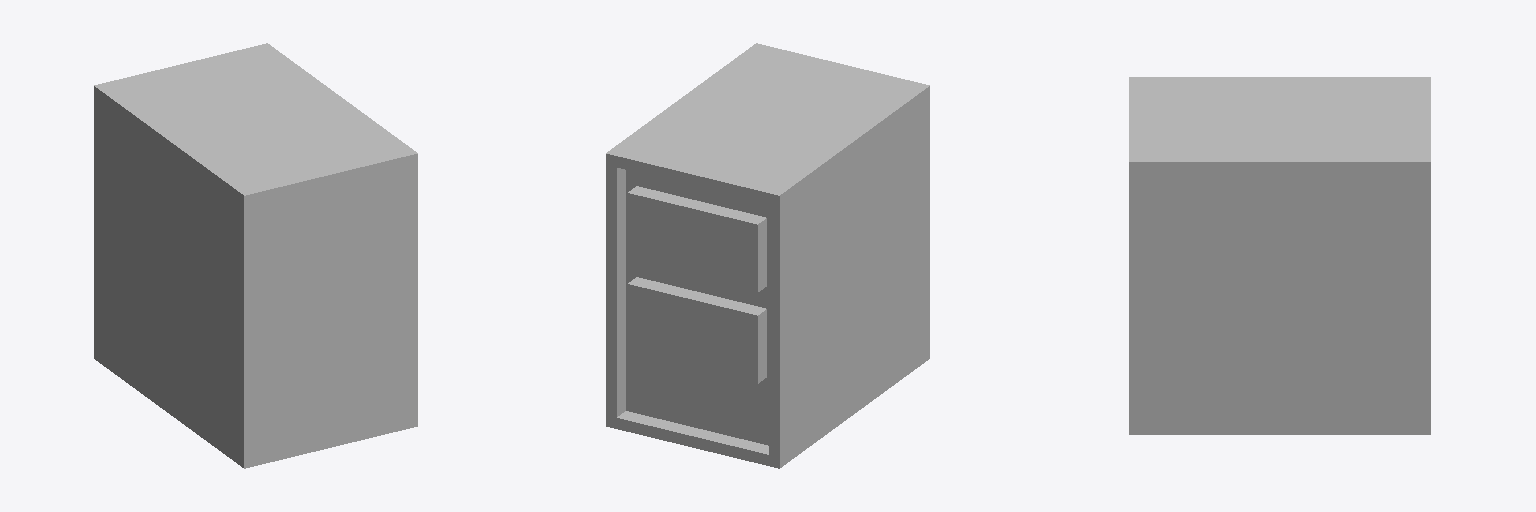
File: computer_cluster_controller_mirrored.obj
3 renders of one model, left to right at view 1: azimuth 30°, elevation 25°; view 2: azimuth 150°, elevation 25°; view 3: azimuth 270°, elevation 25°, orthographic.
Parts seen in each view (by area): view 1: cube; view 2: cube; view 3: cube.
Part boxes in pixels (x1,y1,x2,y2): cube: (94, 43, 417, 468); cube: (606, 43, 929, 468); cube: (1129, 77, 1430, 434).
Bounding box in the file's own units: 2 × 3 × 3.